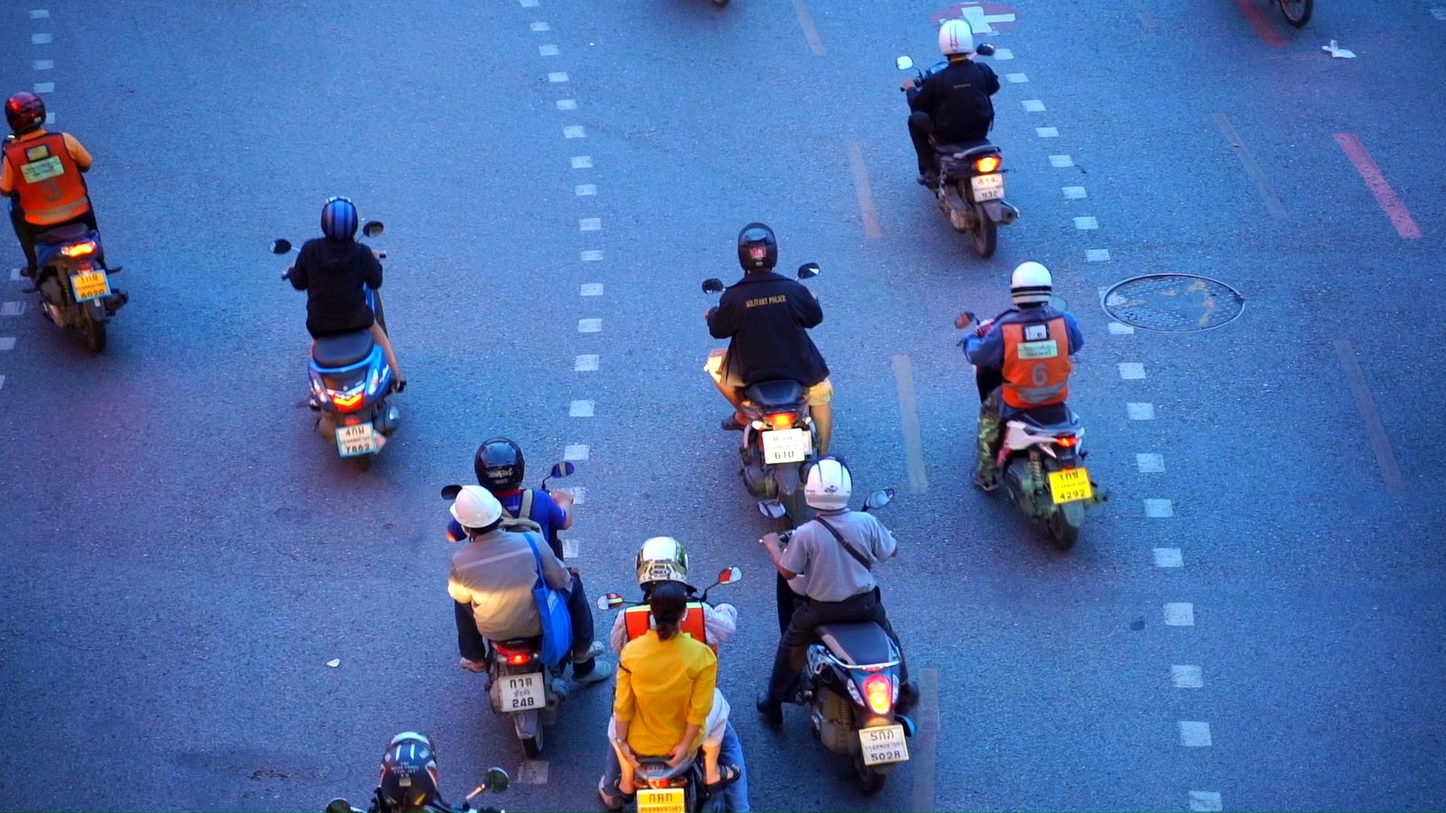driver: (754, 454, 918, 797), (440, 437, 611, 760), (956, 259, 1111, 551), (596, 537, 753, 813), (704, 222, 833, 533), (269, 196, 408, 472), (0, 90, 129, 352), (897, 15, 1021, 259), (328, 729, 512, 813)
helmet: (379, 730, 438, 813), (449, 485, 502, 543), (635, 537, 689, 592), (804, 453, 853, 513), (475, 437, 526, 494), (737, 222, 778, 278), (1009, 259, 1053, 308), (5, 91, 46, 136), (321, 195, 358, 244), (938, 15, 974, 62)
no-helmet: (650, 581, 689, 642)
